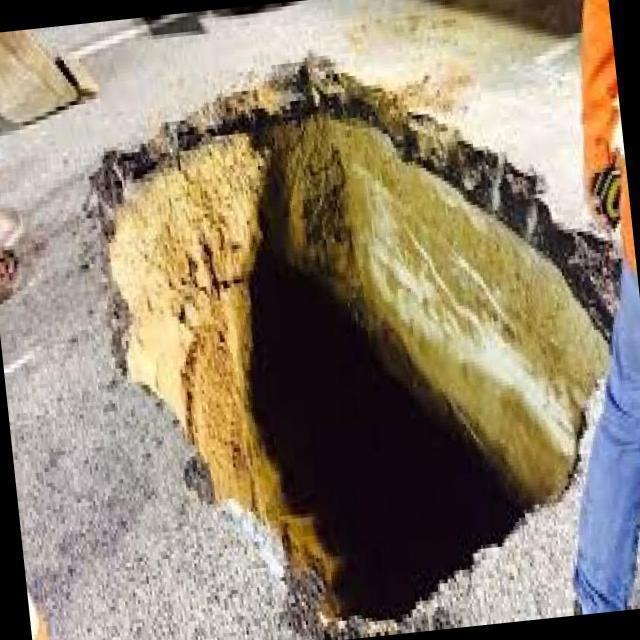pothole: (91, 59, 618, 614)
